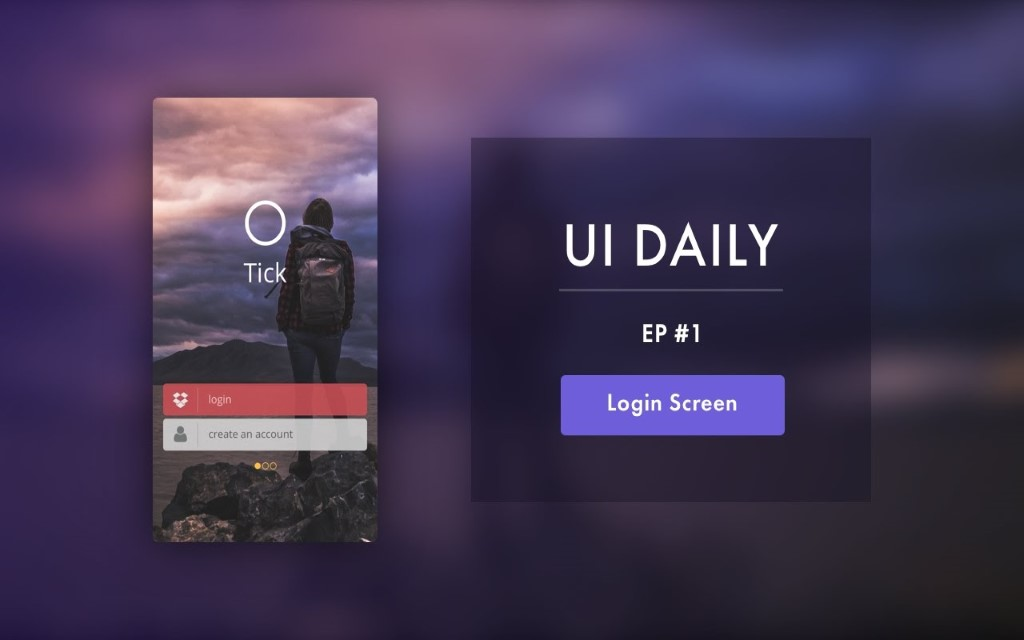button: (560, 374, 785, 435), (198, 383, 367, 415)
label_Login: (603, 391, 665, 419), (206, 392, 232, 408)
textbox: (199, 418, 366, 449)
